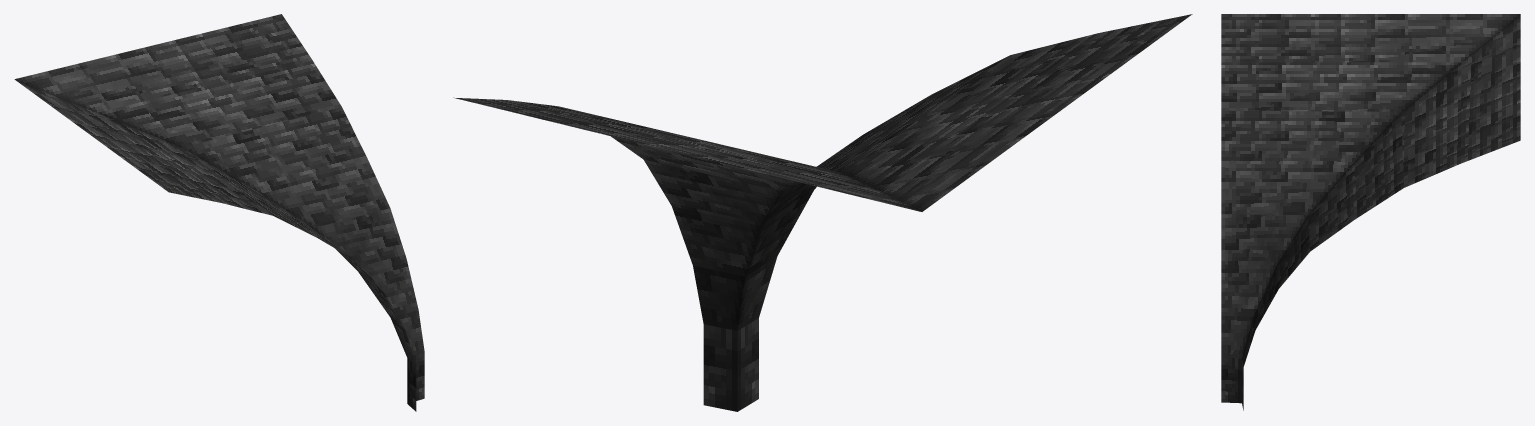
The model's file is MDL_Arched_Ceiling.glb.
The picture shows the model from 3 angles, left to right: view 1: azimuth 30°, elevation 25°; view 2: azimuth 150°, elevation 25°; view 3: azimuth 270°, elevation 25°; orthographic projection. The views are drawn at different scales.
Visible parts, largest first — view 1: cylinder; view 2: cylinder; view 3: cylinder.
Boxes of the visible parts, x1,y1,x2,y2 form: cylinder: (14, 14, 424, 411); cylinder: (453, 14, 1192, 411); cylinder: (1221, 14, 1520, 410).
Size of the model in its own units: 2.37 by 2.38 by 2.37.
Materials: 1 (1 with a texture image).
